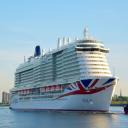cruises: (10, 24, 121, 115)
